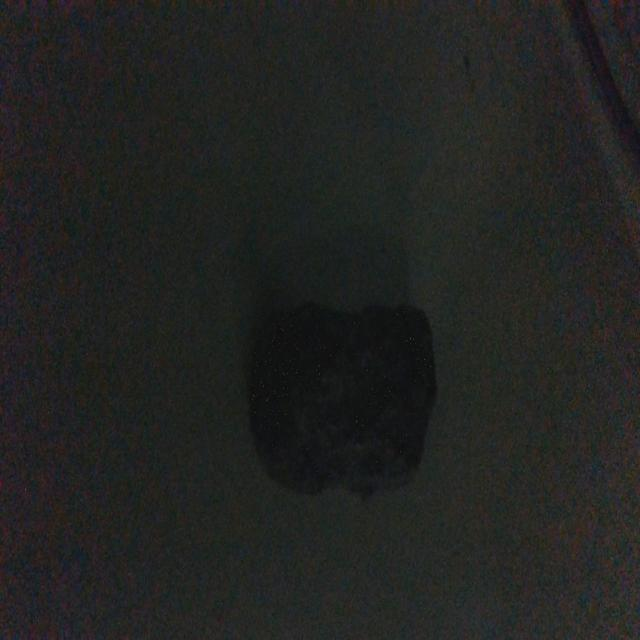stone: (251, 300, 439, 505)
